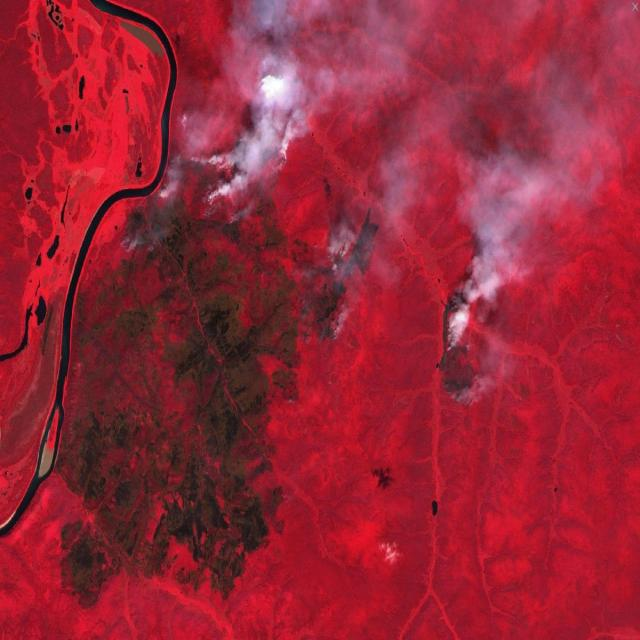fire: (117, 120, 383, 352), (434, 297, 491, 416)
